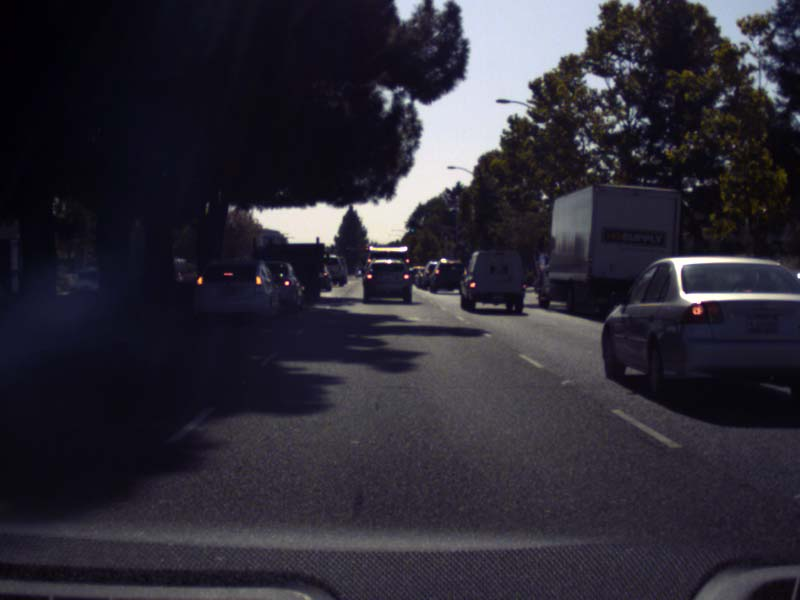Green: (409, 221, 415, 233)
